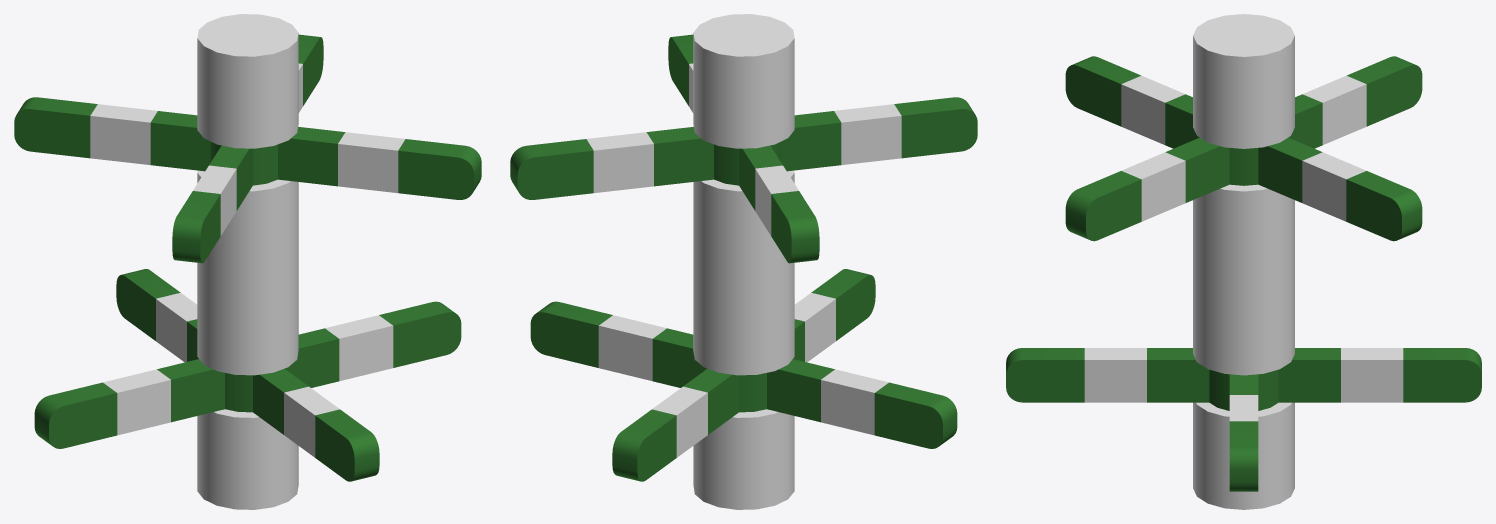
File: Blades A Medium.fbx
3 renders of one model, left to right at view 1: azimuth 30°, elevation 25°; view 2: azimuth 150°, elevation 25°; view 3: azimuth 270°, elevation 25°, orthographic.
Parts seen in each view (by area): view 1: Blades A Medium.002, Blades A Medium, Blades A Medium.001; view 2: Blades A Medium.002, Blades A Medium, Blades A Medium.001; view 3: Blades A Medium.002, Blades A Medium.001, Blades A Medium.
Boxes of the visible parts, left/top/right/bottom form: Blades A Medium.002: left=197, top=14, right=298, bottom=509; Blades A Medium: left=34, top=269, right=461, bottom=481; Blades A Medium.001: left=14, top=34, right=481, bottom=263; Blades A Medium.002: left=693, top=14, right=794, bottom=509; Blades A Medium: left=530, top=269, right=957, bottom=481; Blades A Medium.001: left=510, top=34, right=977, bottom=263; Blades A Medium.002: left=1193, top=14, right=1294, bottom=509; Blades A Medium.001: left=1065, top=56, right=1422, bottom=241; Blades A Medium: left=1006, top=348, right=1481, bottom=491.
Bounding box in the file's own units: 200 × 210 × 200.
